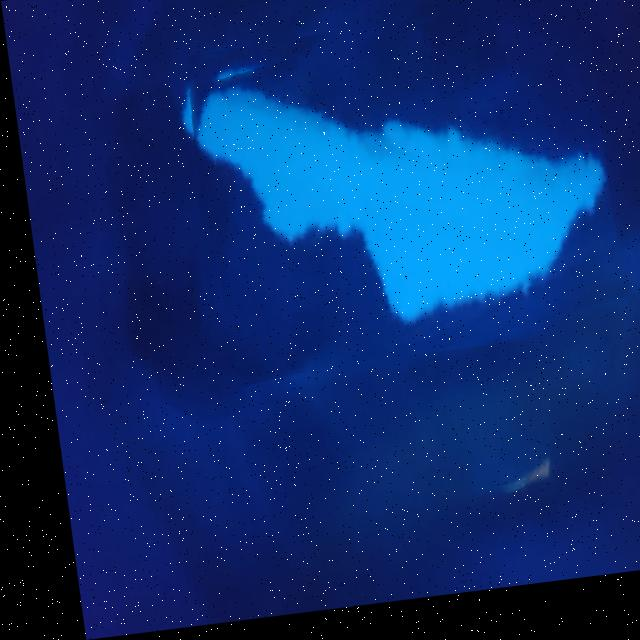litter: (166, 2, 616, 383)
